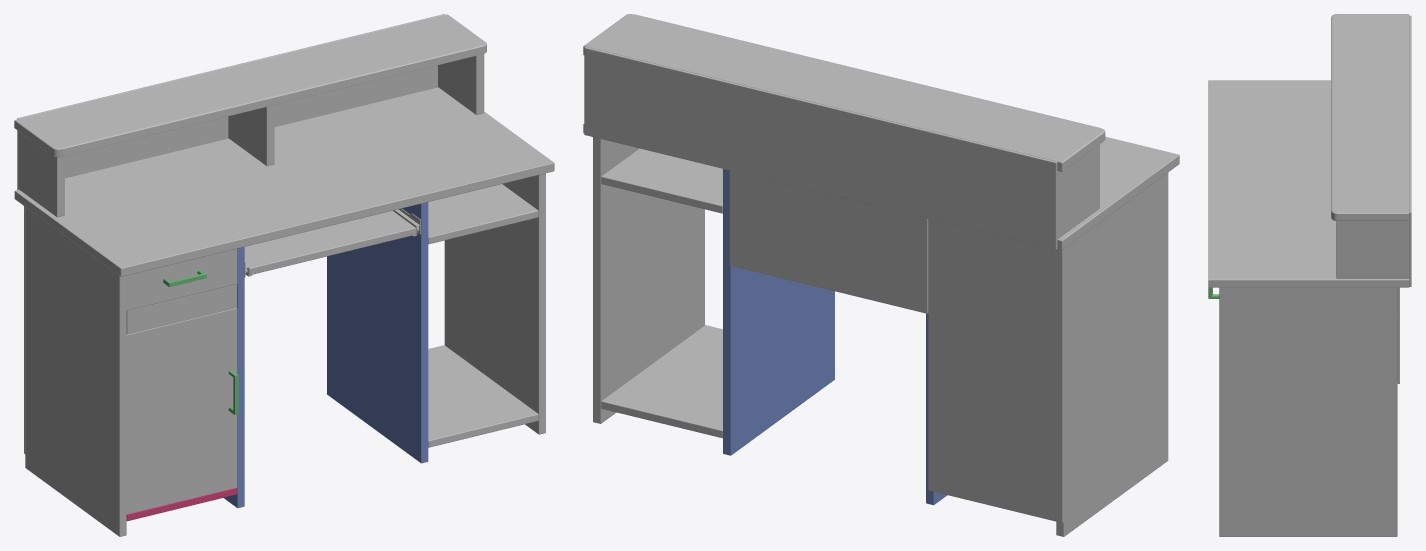
3 renders of one model, left to right at view 1: azimuth 30°, elevation 25°; view 2: azimuth 150°, elevation 25°; view 3: azimuth 270°, elevation 25°, orthographic. The views are drawn at different scales.
Parts seen in each view (by area): view 1: pred_mesh_gc.ply; view 2: pred_mesh_gc.ply; view 3: pred_mesh_gc.ply.
Part boxes in pixels (x1,y1,x2,y2): pred_mesh_gc.ply: [14, 14, 554, 536]; pred_mesh_gc.ply: [583, 14, 1179, 536]; pred_mesh_gc.ply: [1208, 14, 1411, 536].
Bounding box in the file's own units: 0.7532 × 0.572 × 0.3247.
